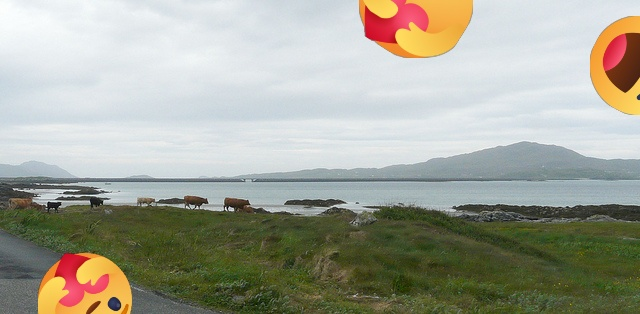care: (359, 0, 473, 58), (38, 253, 132, 314)
haha: (590, 16, 640, 115)
